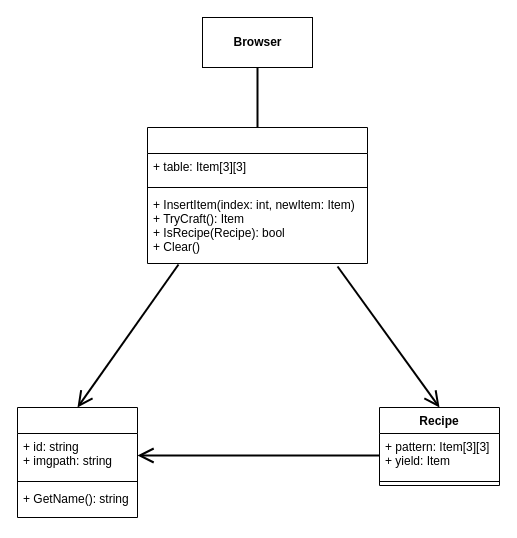
The diagram is 517 pixels wide and 538 high, and some of its shapes have lost their labels. The shapes that lost their labels are listed below. From the top down, each one's box as (x1, y1, x2, y2) in pixels, then its label:
(146, 126, 368, 264): CraftingTable
(16, 406, 138, 518): Item
